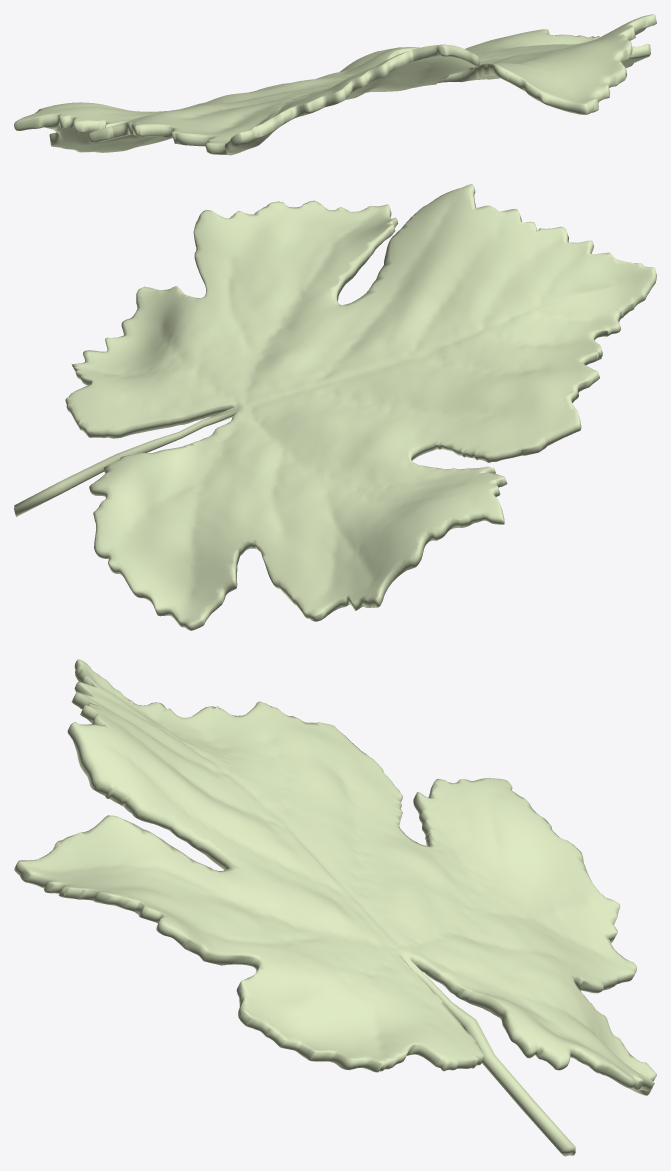
Rendered from GrapeLeafCG.fbx.
3 views of the same model, one above another, from view 1: azimuth 30°, elevation 25°; view 2: azimuth 150°, elevation 25°; view 3: azimuth 270°, elevation 25° (orthographic). The views are drawn at different scales.
Parts seen in each view (by area): view 1: GrapeLeaf; view 2: GrapeLeaf; view 3: GrapeLeaf.
Boxes of the visible parts, x1,y1,x2,y2 form: GrapeLeaf: (14,14,656,155); GrapeLeaf: (14,184,656,630); GrapeLeaf: (14,659,656,1156).
Size of what is drawn, in the model's own units: 3.43 by 1.89 by 3.27.
